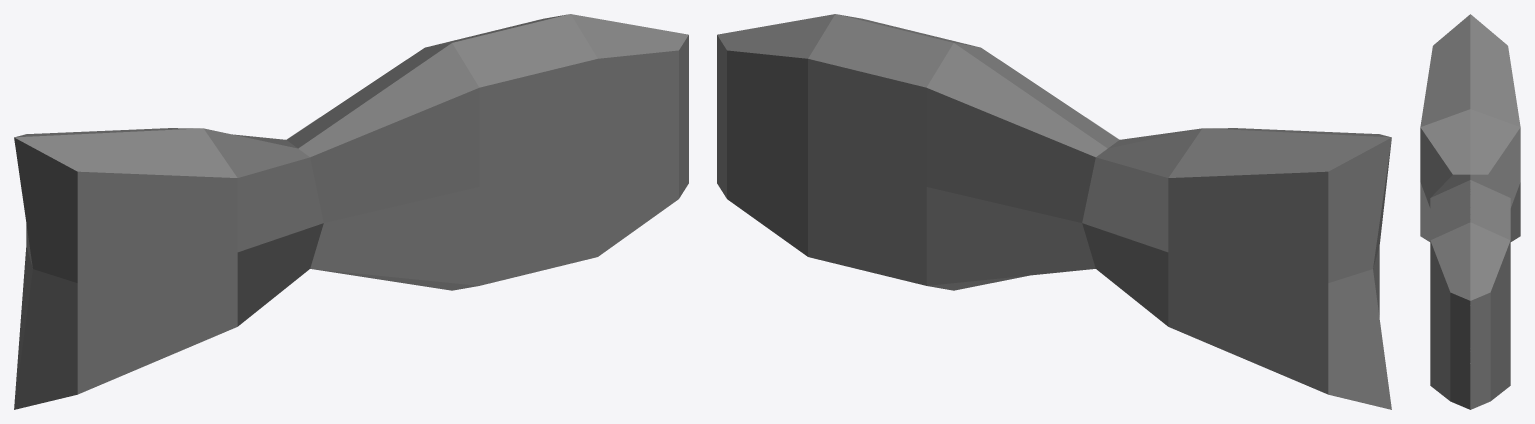
The model's file is fish.obj.
3 renders of one model, left to right at view 1: azimuth 30°, elevation 25°; view 2: azimuth 150°, elevation 25°; view 3: azimuth 270°, elevation 25°, orthographic. The views are drawn at different scales.
Parts seen in each view (by area): view 1: mesh; view 2: mesh; view 3: mesh.
Boxes of the visible parts, x1,y1,x2,y2 form: mesh: [14, 14, 688, 409]; mesh: [717, 14, 1391, 409]; mesh: [1420, 14, 1520, 409].
Bounding box in the file's own units: 1.78 × 0.6875 × 0.3125.
1 material, 1 textured.
